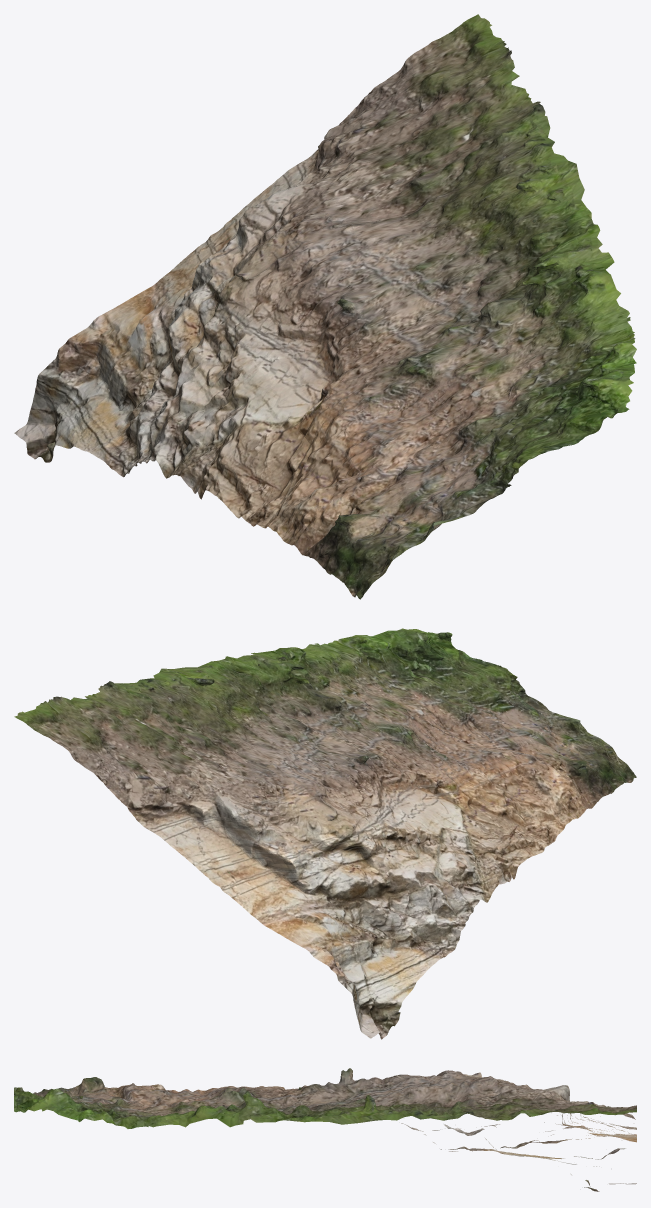
The picture shows the model from 3 angles, top to bottom: view 1: azimuth 30°, elevation 25°; view 2: azimuth 150°, elevation 25°; view 3: azimuth 270°, elevation 25°; orthographic projection. The views are drawn at different scales.
Size of the model in its own units: 7.86 by 5.1 by 10.11.
Materials: 2 (2 with a texture image).
